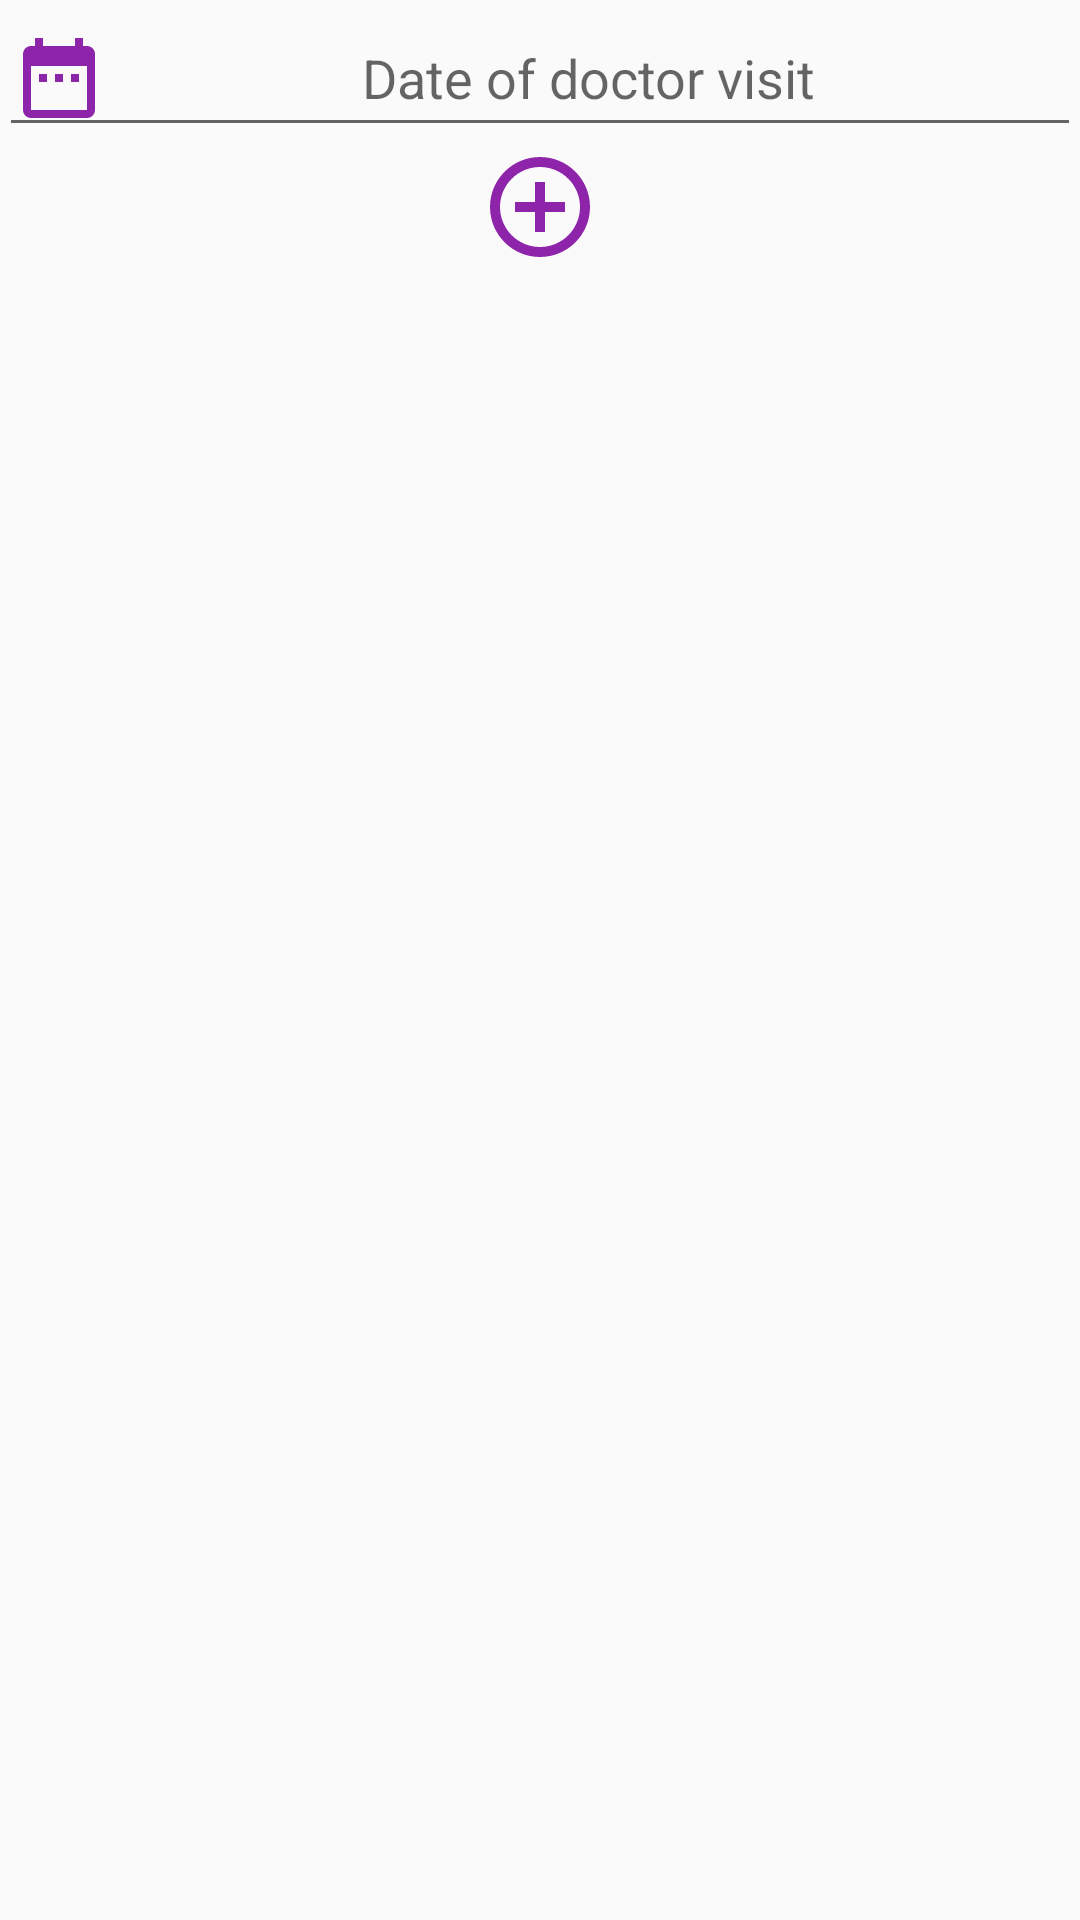

Screen size 1080px×1920px. Icon name, then its box in pixels as {"left": x1, "top": y1, "right": x2, "bottom": y2}:
add circle: {"left": 490, "top": 157, "right": 590, "bottom": 257}
